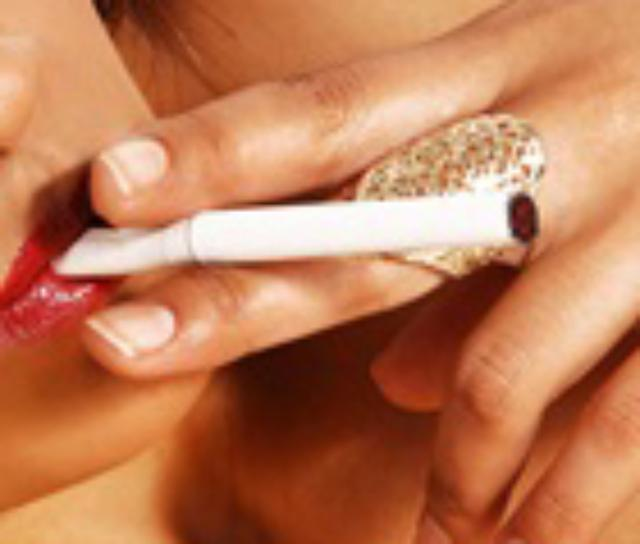Cigarette: (43, 196, 541, 278)
